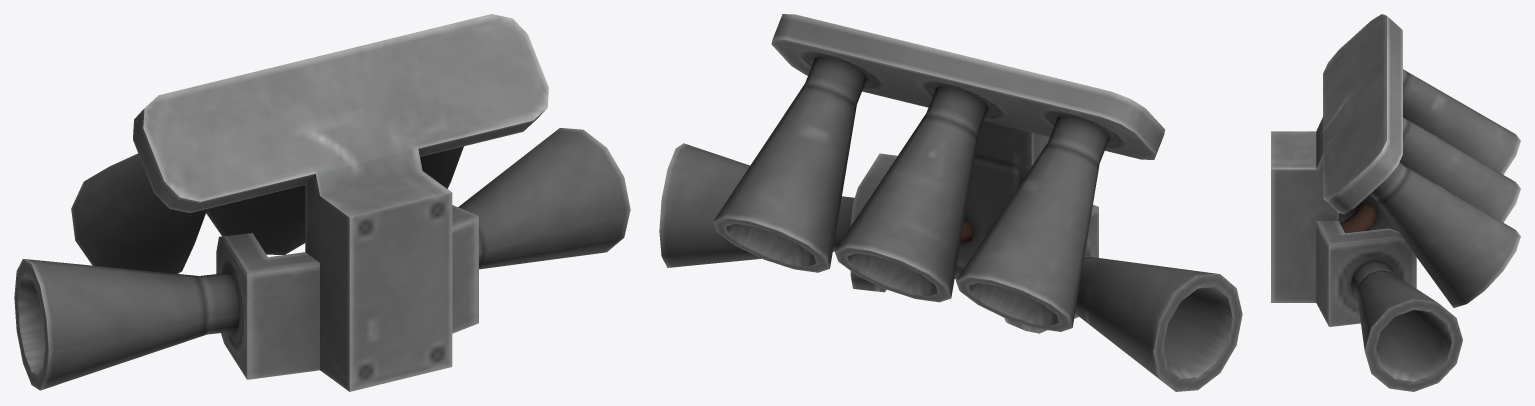
The model's file is fgb rcs.obj.
The picture shows the model from 3 angles, left to right: view 1: azimuth 30°, elevation 25°; view 2: azimuth 150°, elevation 25°; view 3: azimuth 270°, elevation 25°; orthographic projection. The views are drawn at different scales.
Parts seen in each view (by area): view 1: 1; view 2: 1; view 3: 1.
Part boxes in pixels (x1,y1,x2,y2): 1: [14, 14, 630, 391]; 1: [659, 14, 1242, 391]; 1: [1271, 14, 1520, 391].
Bounding box in the file's own units: 0.5672 × 0.2571 × 0.276.
Materials: 1 (1 with a texture image).
